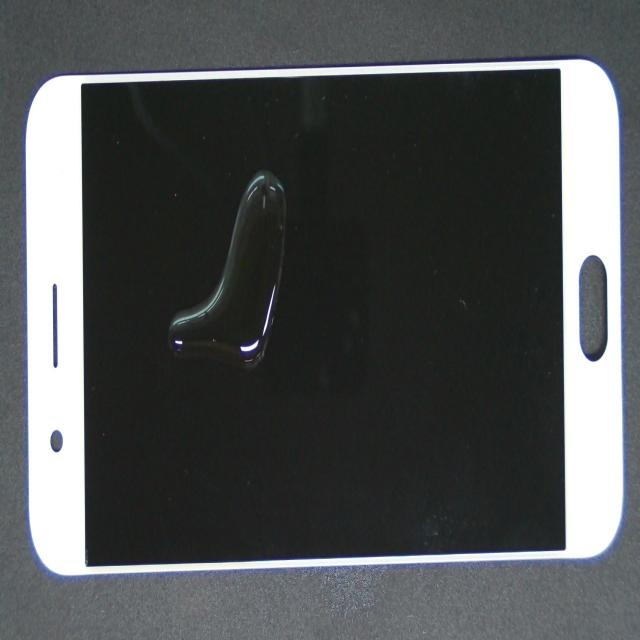oil: (112, 252, 406, 463)
